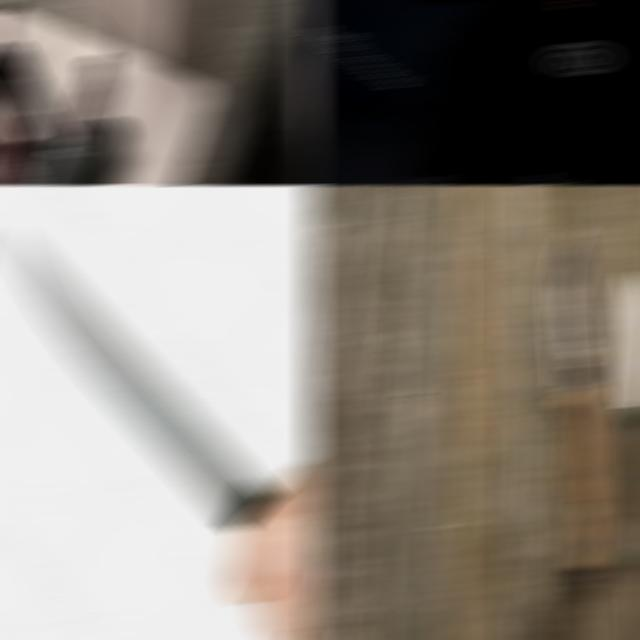Knife: (12, 230, 276, 530), (551, 230, 609, 592), (32, 54, 118, 184), (0, 40, 75, 184), (616, 272, 640, 439)
Knife_Handle: (0, 218, 320, 640)
